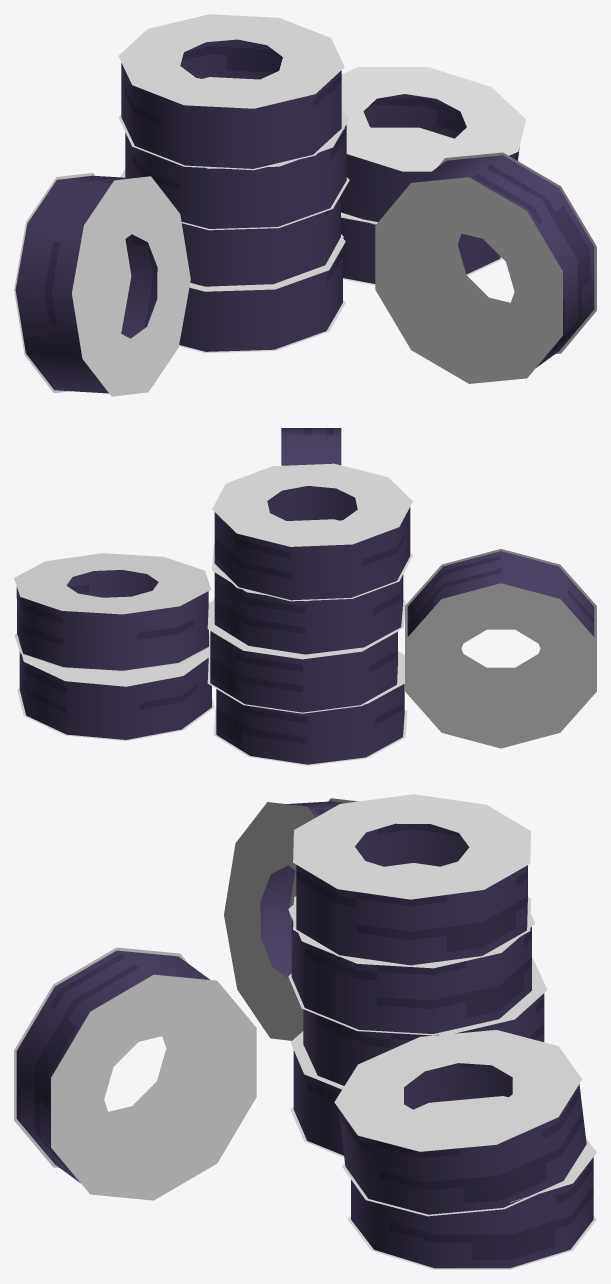
File: Tire Pile.fbx
3 views of the same model, one above another, from view 1: azimuth 30°, elevation 25°; view 2: azimuth 150°, elevation 25°; view 3: azimuth 270°, elevation 25° (orthographic). The views are drawn at different scales.
Parts seen in each view (by area): view 1: Tire Pile rolled wall 0.11, Tire Pile stack 3.001, Tire Pile leaning wall 0.11, Tire Pile leaning.001, Tire Pile stack 3 wall 0.11, Tire Pile stack 2.001, Tire Pile stack b2 wall 0.11, Tire Pile stack 0.001, Tire Pile rolled.001, Tire Pile stack 1.001, Tire Pile stack b2.001, Tire Pile rolled wall -0.11 (+6 smaller); view 2: Tire Pile leaning wall -0.11, Tire Pile stack 3.001, Tire Pile stack b2.001, Tire Pile stack 3 wall 0.11, Tire Pile stack b.001, Tire Pile stack 1.001, Tire Pile stack 2.001, Tire Pile stack 0.001, Tire Pile stack b2 wall 0.11, Tire Pile leaning.001, Tire Pile leaning wall 0.11, Tire Pile stack b wall 0.11 (+6 smaller); view 3: Tire Pile rolled wall -0.11, Tire Pile stack 3.001, Tire Pile stack b2.001, Tire Pile stack b2 wall 0.11, Tire Pile stack 2.001, Tire Pile stack 3 wall 0.11, Tire Pile stack b.001, Tire Pile leaning wall 0.11, Tire Pile rolled.001, Tire Pile rolled wall 0.11, Tire Pile stack 1.001, Tire Pile leaning.001 (+5 smaller).
Boxes of the visible parts, x1,y1,x2,y2 form: Tire Pile rolled wall 0.11: (375,177,562,383); Tire Pile stack 3.001: (121,39,341,168); Tire Pile leaning wall 0.11: (72,176,190,396); Tire Pile leaning.001: (15,175,157,393); Tire Pile stack 3 wall 0.11: (118,14,344,108); Tire Pile stack 2.001: (125,124,346,228); Tire Pile stack b2 wall 0.11: (341,66,525,171); Tire Pile stack 0.001: (179,247,342,351); Tire Pile rolled.001: (417,155,594,367); Tire Pile stack 1.001: (182,196,340,286); Tire Pile stack b2.001: (341,94,519,221); Tire Pile rolled wall -0.11: (424,152,596,353); Tire Pile leaning wall -0.11: (405,583,596,748); Tire Pile stack 3.001: (214,486,410,600); Tire Pile stack b2.001: (16,570,208,670); Tire Pile stack 3 wall 0.11: (212,463,412,546); Tire Pile stack b.001: (19,651,211,739); Tire Pile stack 1.001: (210,631,397,712); Tire Pile stack 2.001: (214,572,403,654); Tire Pile stack 0.001: (216,684,404,764); Tire Pile stack b2 wall 0.11: (14,553,210,614); Tire Pile leaning.001: (407,551,594,636); Tire Pile leaning wall 0.11: (405,549,596,701); Tire Pile stack b wall 0.11: (17,631,210,686); Tire Pile rolled wall -0.11: (51,974,256,1200); Tire Pile stack 3.001: (296,823,527,965); Tire Pile stack b2.001: (338,1063,586,1214); Tire Pile stack b2 wall 0.11: (334,1030,581,1151); Tire Pile stack 2.001: (291,918,531,1033); Tire Pile stack 3 wall 0.11: (293,794,530,899); Tire Pile stack b.001: (351,1157,593,1268); Tire Pile leaning wall 0.11: (224,802,314,1040); Tire Pile rolled.001: (16,950,209,1182); Tire Pile rolled wall 0.11: (14,947,203,1167); Tire Pile stack 1.001: (303,993,544,1085); Tire Pile leaning.001: (260,801,345,978).
Size of the model in its own units: 2.13 by 0.9235 by 1.73.
Materials: 2 (1 with a texture image).
